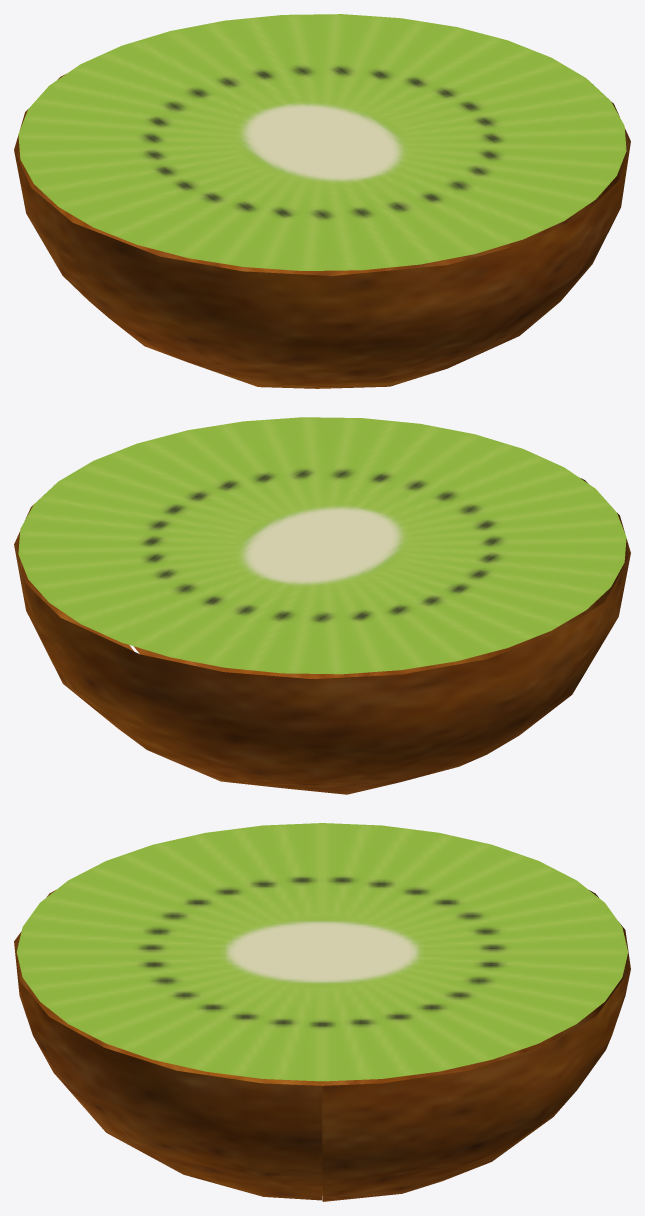
File: NP_Kiwi_CutHalf_LOD1.fbx
The picture shows the model from 3 angles, top to bottom: view 1: azimuth 30°, elevation 25°; view 2: azimuth 150°, elevation 25°; view 3: azimuth 270°, elevation 25°; orthographic projection.
Visible parts, largest first — view 1: NP_Kiwi_CutHalf.001; view 2: NP_Kiwi_CutHalf.001; view 3: NP_Kiwi_CutHalf.001.
Boxes of the visible parts, left/top/right/bottom form: NP_Kiwi_CutHalf.001: left=14, top=14, right=630, bottom=388; NP_Kiwi_CutHalf.001: left=14, top=417, right=630, bottom=794; NP_Kiwi_CutHalf.001: left=14, top=823, right=630, bottom=1201.
Size of the model in its own units: 17.99 by 6.8 by 17.98.
